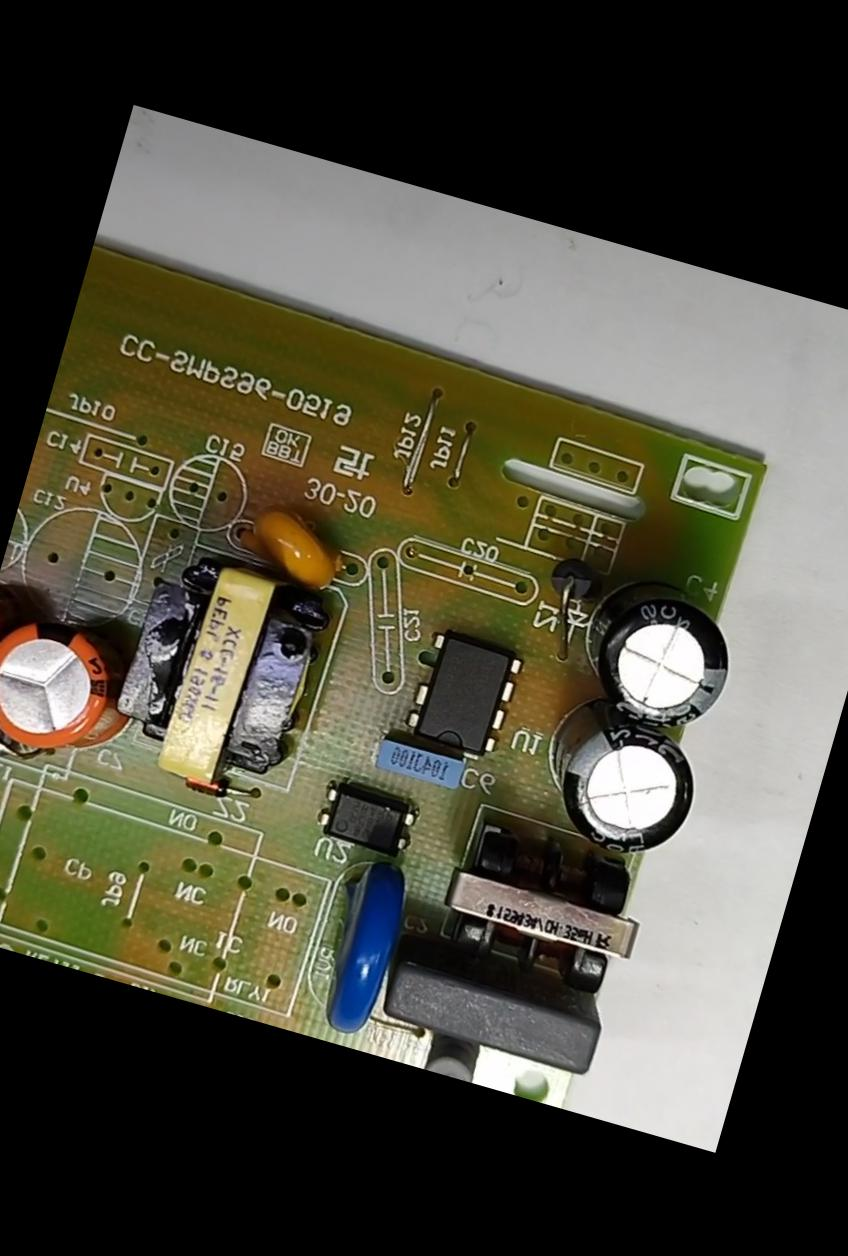Cap1: (0, 584, 153, 782)
Cap2: (0, 582, 26, 702)
Cap3: (516, 676, 718, 881)
Cap4: (555, 567, 754, 749)
MOSFET: (390, 611, 532, 779)
Mov: (296, 830, 432, 1049)
Resistor: (412, 1022, 500, 1086)
Transformer: (102, 512, 348, 812), (425, 796, 662, 1017)
